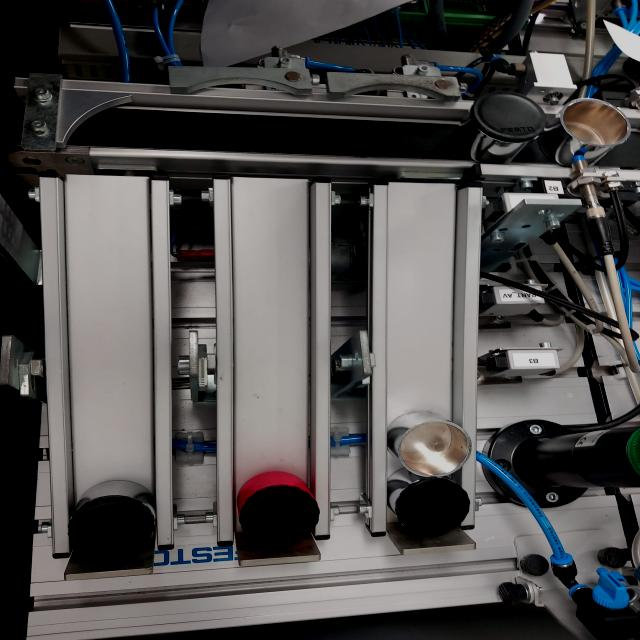NoLid: (386, 406, 486, 481), (553, 93, 631, 168)
Workpiece: (233, 461, 338, 550), (65, 474, 163, 566), (458, 86, 549, 170), (383, 477, 484, 546)
